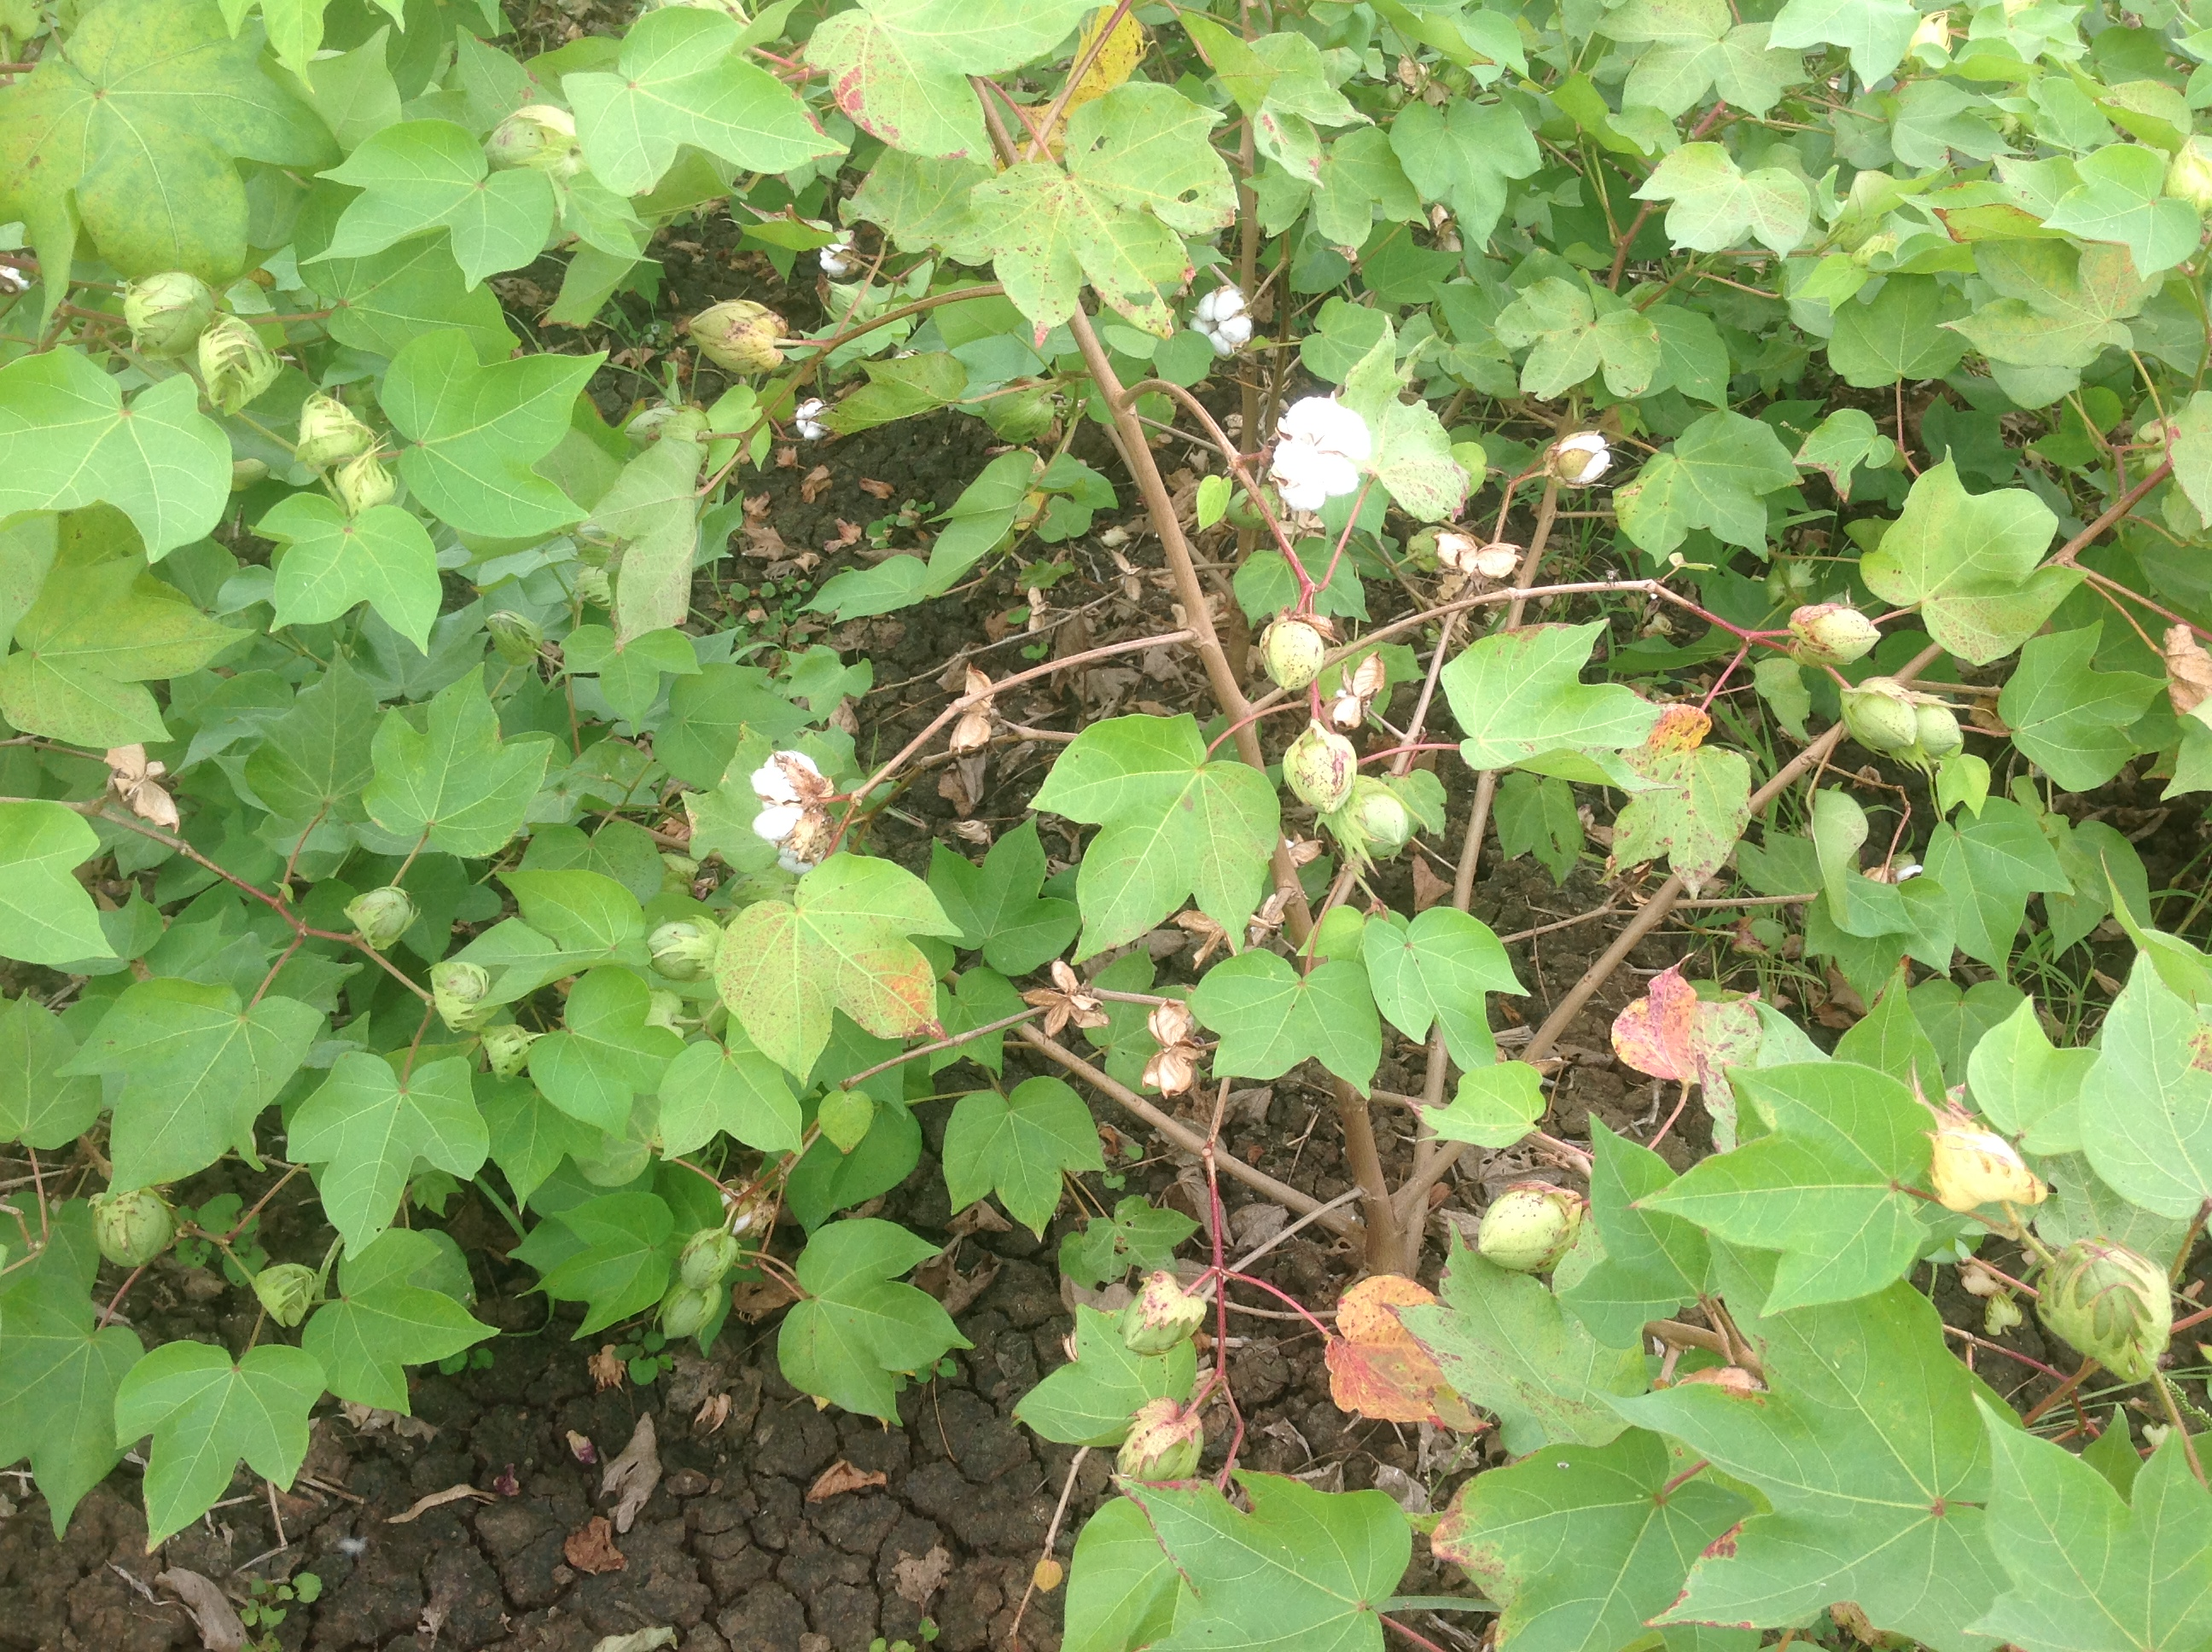cotton: (741, 739, 850, 890), (1270, 387, 1376, 519), (1190, 272, 1258, 359), (810, 213, 874, 295), (1548, 422, 1612, 489), (789, 387, 829, 448)
